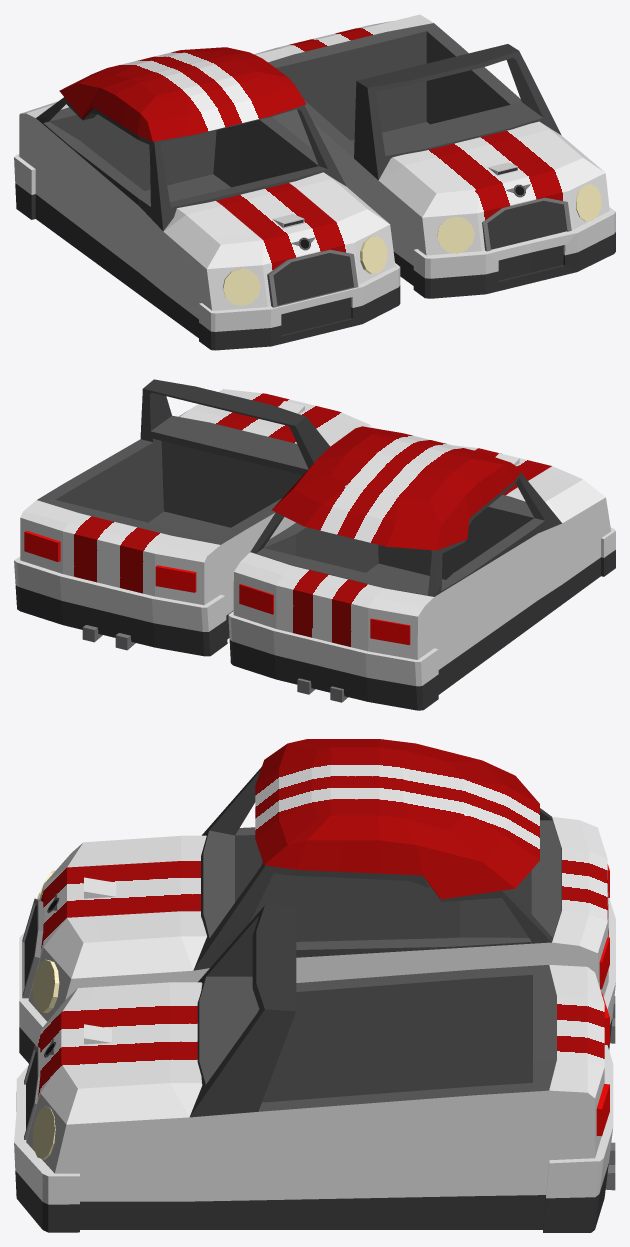
The model's file is Coupe.fbx.
3 renders of one model, top to bottom at view 1: azimuth 30°, elevation 25°; view 2: azimuth 150°, elevation 25°; view 3: azimuth 270°, elevation 25°, orthographic. The views are drawn at different scales.
Visible parts, largest first — view 1: Cube, Cube.001_Cube.002; view 2: Cube, Cube.001_Cube.002; view 3: Cube.001_Cube.002, Cube.
Part boxes in pixels (x1,y1,x2,y2): Cube: [14, 47, 400, 350]; Cube.001_Cube.002: [254, 14, 615, 298]; Cube: [228, 426, 615, 710]; Cube.001_Cube.002: [14, 379, 374, 656]; Cube.001_Cube.002: [14, 905, 615, 1232]; Cube: [19, 739, 615, 1063].
Bounding box in the file's own units: 531 × 220 × 485.
Materials: 4 (1 with a texture image).
